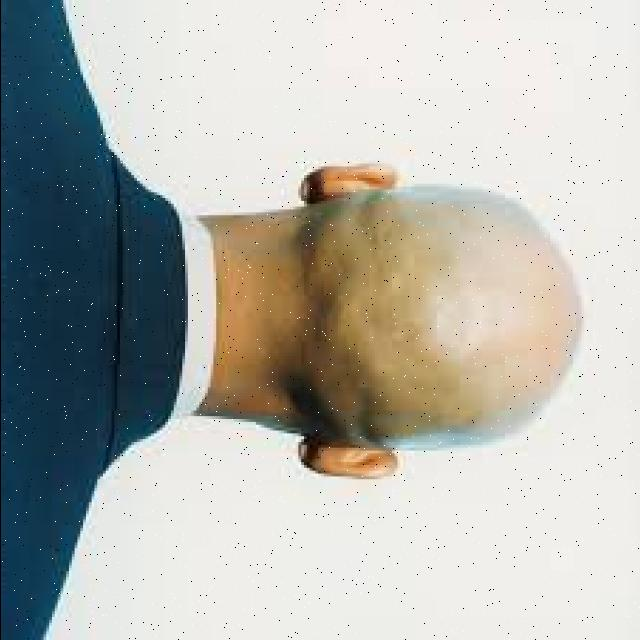Non_Helmet: (242, 144, 598, 492)
